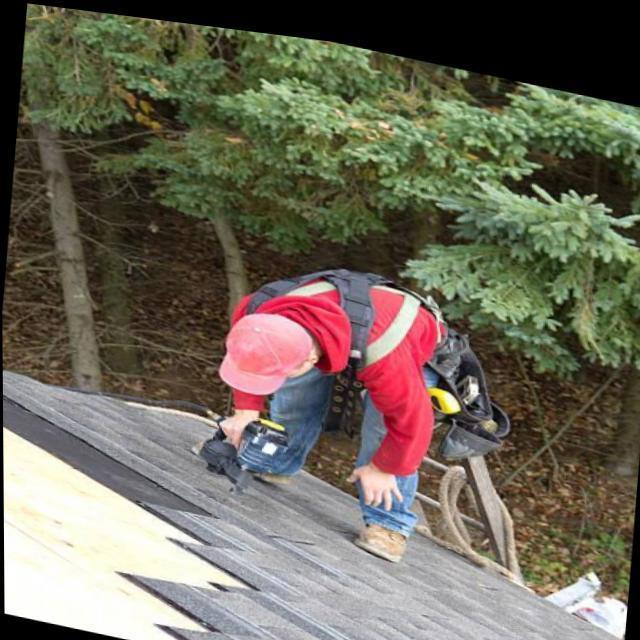Harness: (248, 269, 509, 428)
